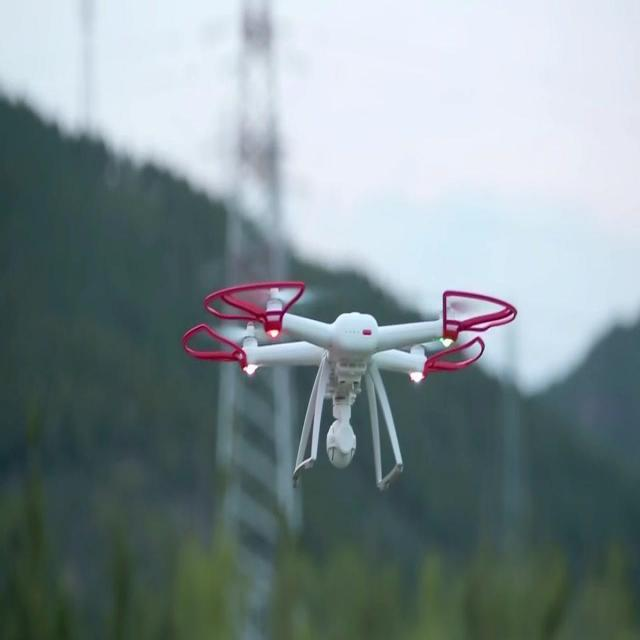UAV: (182, 281, 516, 491)
